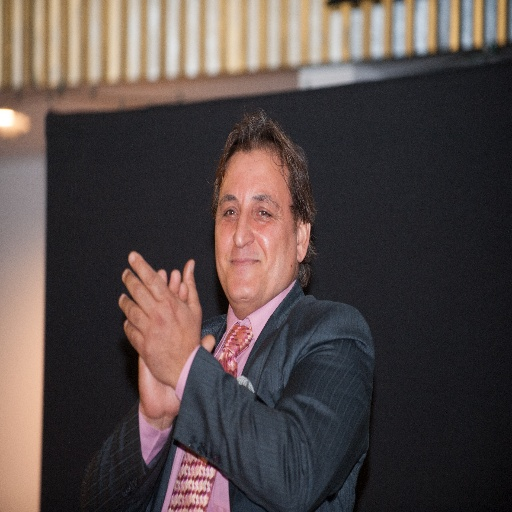hand: (136, 266, 216, 420)
